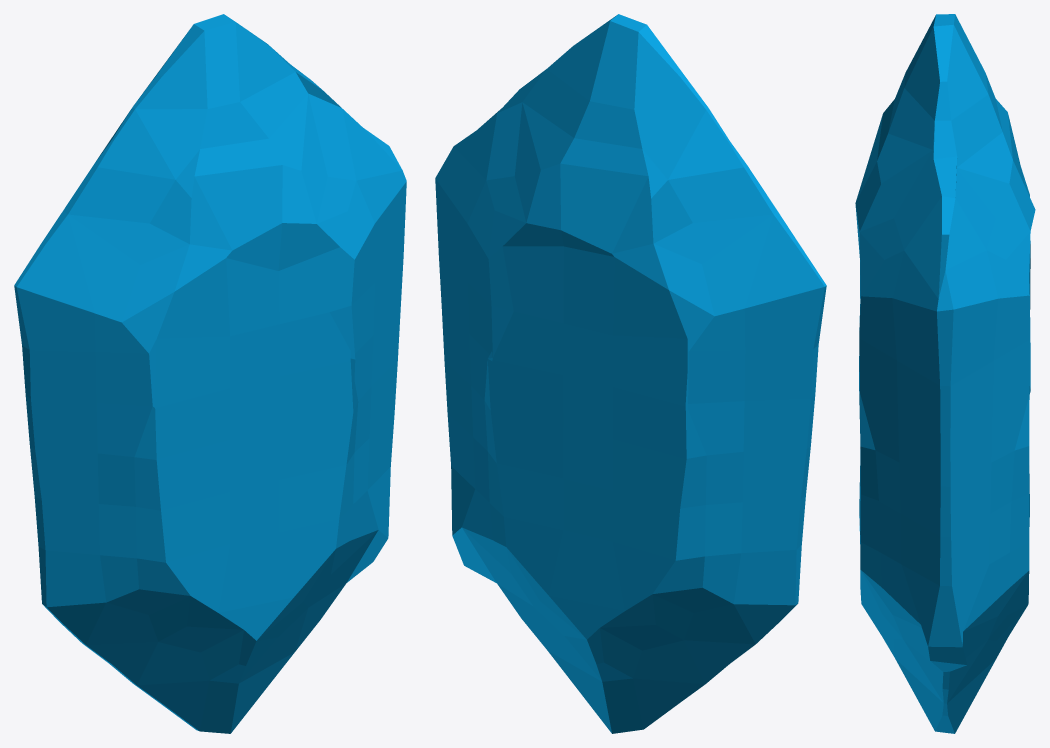
The model's file is crystal_0.glb.
3 renders of one model, left to right at view 1: azimuth 30°, elevation 25°; view 2: azimuth 150°, elevation 25°; view 3: azimuth 270°, elevation 25°, orthographic.
Parts seen in each view (by area): view 1: crystal; view 2: crystal; view 3: crystal.
Boxes of the visible parts, x1=… form: crystal: x1=14, y1=14, x2=406, y2=733; crystal: x1=435, y1=14, x2=826, y2=733; crystal: x1=855, y1=14, x2=1035, y2=733.
Size of the model in its own units: 0.2899 by 0.51 by 0.1172.
